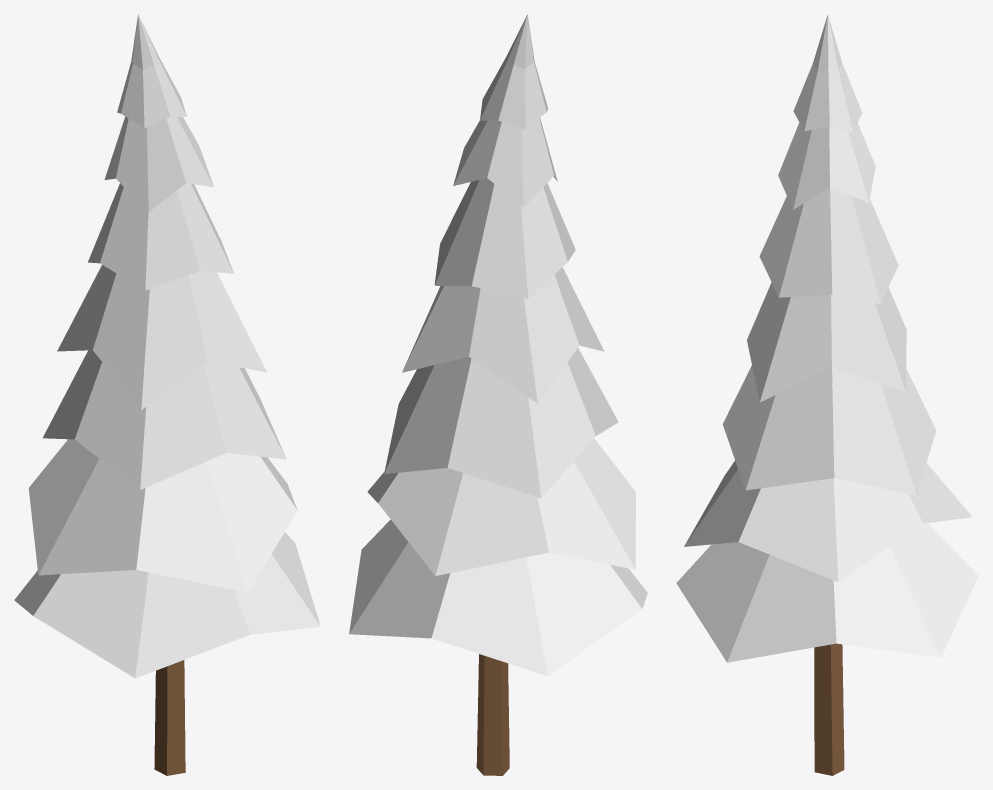
File: Pine_Tree_l_Snow_04.fbx
3 views of the same model, side by side, from view 1: azimuth 30°, elevation 25°; view 2: azimuth 150°, elevation 25°; view 3: azimuth 270°, elevation 25° (orthographic). The views are drawn at different scales.
Visible parts, largest first — view 1: Pine_Tree_l_Snow_04; view 2: Pine_Tree_l_Snow_04; view 3: Pine_Tree_l_Snow_04.
Boxes of the visible parts, left/top/right/bottom form: Pine_Tree_l_Snow_04: left=14, top=14, right=320, bottom=775; Pine_Tree_l_Snow_04: left=349, top=14, right=647, bottom=775; Pine_Tree_l_Snow_04: left=676, top=14, right=978, bottom=775.
Size of the model in its own units: 671 by 1805 by 669.
